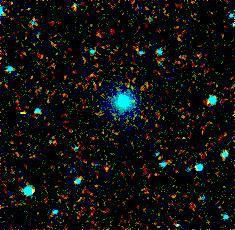star: (10, 92, 40, 122)
